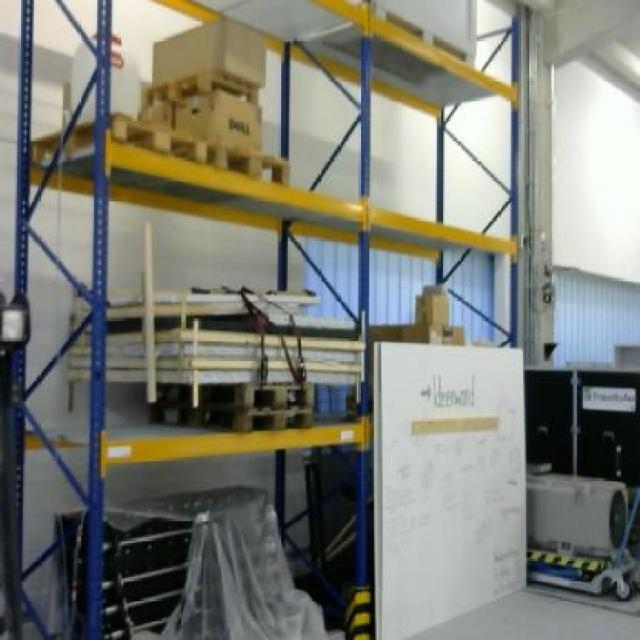box: (149, 16, 266, 89), (171, 95, 264, 156), (414, 290, 449, 326)
